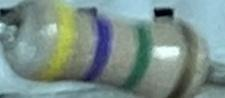Blue: (80, 13, 118, 83)
Green: (122, 19, 158, 96)
Side-Silver: (166, 18, 201, 98)
Yellow: (41, 3, 76, 79)
